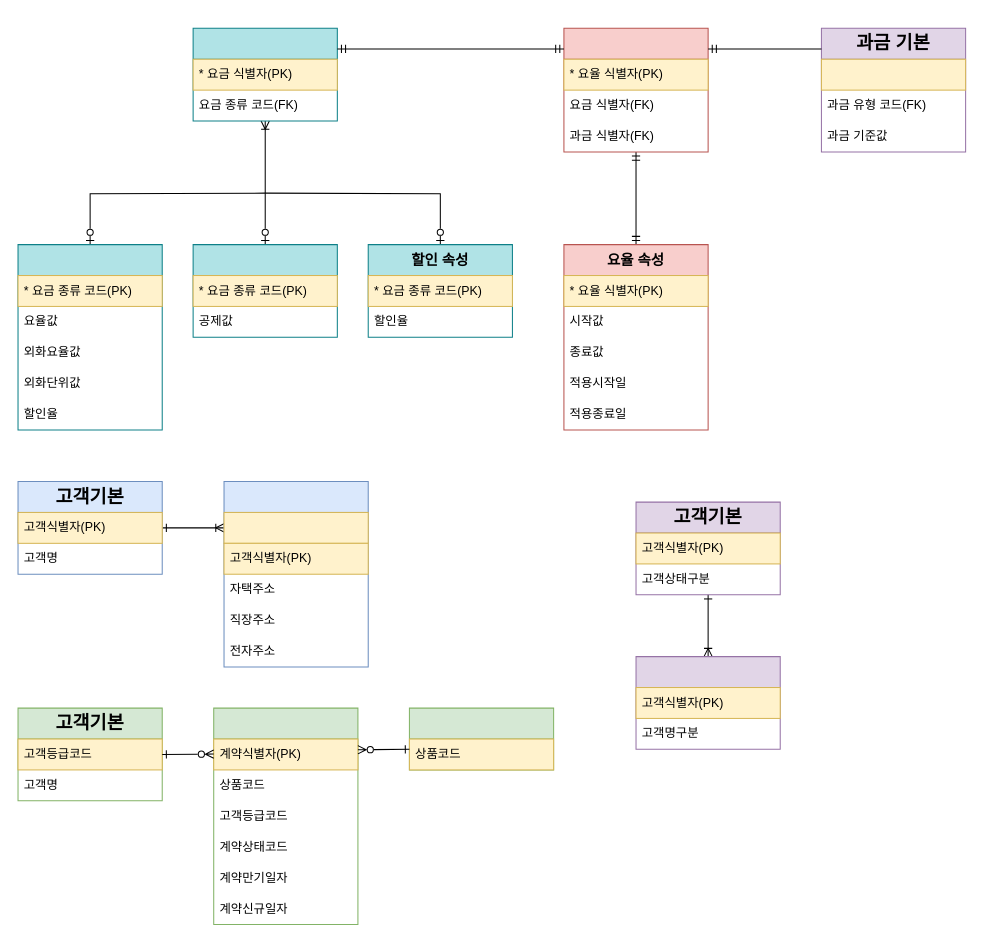
Some shapes in this 984 by 942 pixel diagram are drawn without their labels. The shapes that lost their labels are listed below. From the top down, each one's box as (x1, y1, x2, y2) in pixels, then its label:
(192, 27, 337, 121): 요금 기본
(563, 27, 708, 152): 요율 기본
(820, 58, 966, 90): * 과금 식별자(PK)
(192, 244, 337, 337): 무료 속성
(17, 244, 162, 430): 유료 속성
(223, 511, 368, 543): 주소식별자(PK)
(223, 480, 368, 667): 주소기본
(635, 656, 780, 749): 고객명기본
(408, 707, 554, 770): 상품기본
(213, 707, 358, 924): 계약기본
